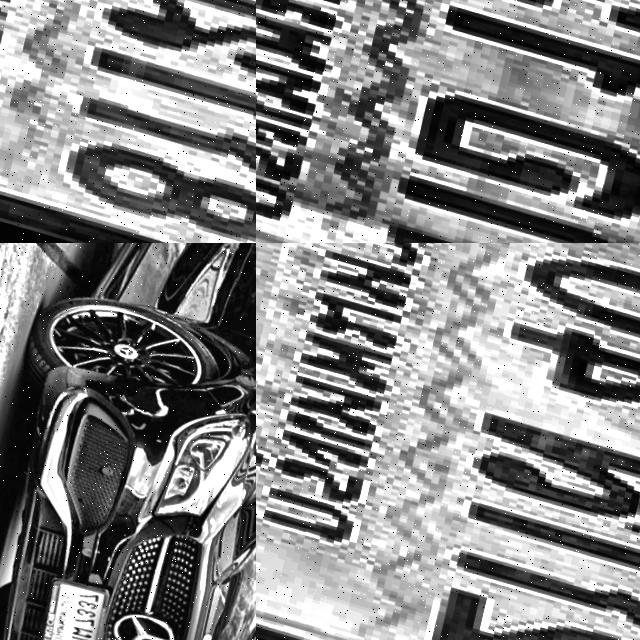license-plate: (256, 243, 640, 640), (256, 0, 640, 243), (0, 0, 256, 243), (37, 574, 109, 640)
